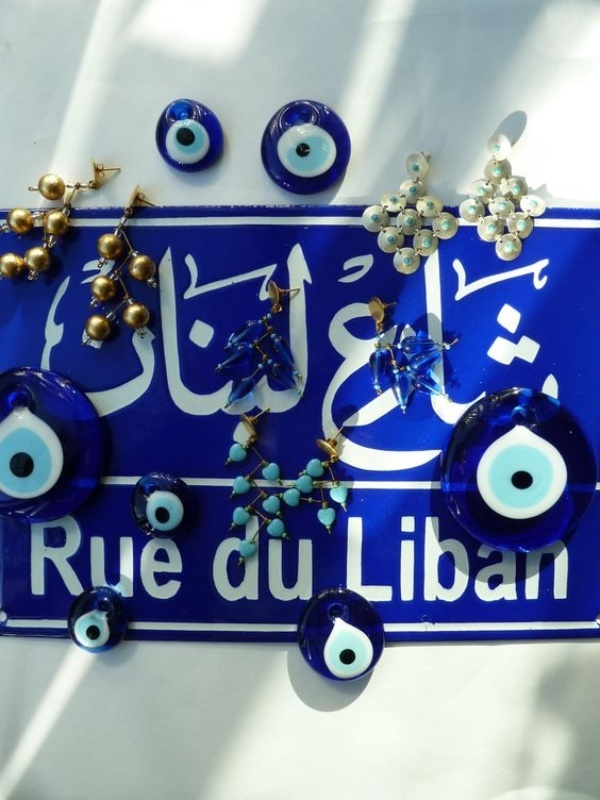text: (321, 243, 336, 479), (337, 243, 352, 479), (353, 243, 368, 479), (369, 243, 384, 479), (385, 243, 400, 479), (401, 243, 416, 479), (417, 243, 432, 479), (433, 243, 448, 479), (449, 243, 464, 479), (465, 243, 480, 479), (481, 243, 496, 479), (497, 243, 512, 479), (513, 243, 528, 479), (529, 243, 544, 479), (545, 243, 560, 479), (49, 236, 64, 447), (65, 236, 80, 447), (81, 236, 96, 447), (97, 236, 112, 447), (113, 236, 128, 447), (129, 236, 144, 447), (145, 236, 160, 447), (161, 236, 176, 447), (177, 236, 192, 447), (193, 236, 208, 447), (209, 236, 224, 447), (225, 236, 240, 447), (241, 236, 256, 447), (257, 236, 272, 447), (273, 236, 288, 447), (289, 236, 304, 447), (305, 236, 314, 447), (561, 243, 568, 479), (353, 509, 368, 606), (369, 509, 384, 606), (385, 509, 400, 606), (401, 509, 416, 606), (417, 509, 432, 606), (433, 509, 448, 606), (449, 509, 464, 606), (465, 509, 480, 606), (481, 509, 496, 606), (497, 509, 512, 606), (513, 509, 528, 606), (529, 509, 544, 606), (545, 509, 560, 606), (225, 512, 240, 606), (241, 512, 256, 606), (257, 512, 272, 606), (273, 512, 288, 606), (289, 512, 304, 606), (33, 511, 48, 605), (49, 511, 64, 605), (65, 511, 80, 605), (81, 511, 96, 605), (97, 511, 112, 605), (113, 511, 128, 605), (129, 511, 144, 605), (145, 511, 160, 605), (161, 511, 176, 605), (42, 236, 48, 447), (561, 509, 574, 606), (211, 512, 224, 606), (305, 512, 318, 606), (177, 511, 190, 605), (344, 509, 352, 606), (24, 511, 32, 605), (319, 243, 320, 479)
